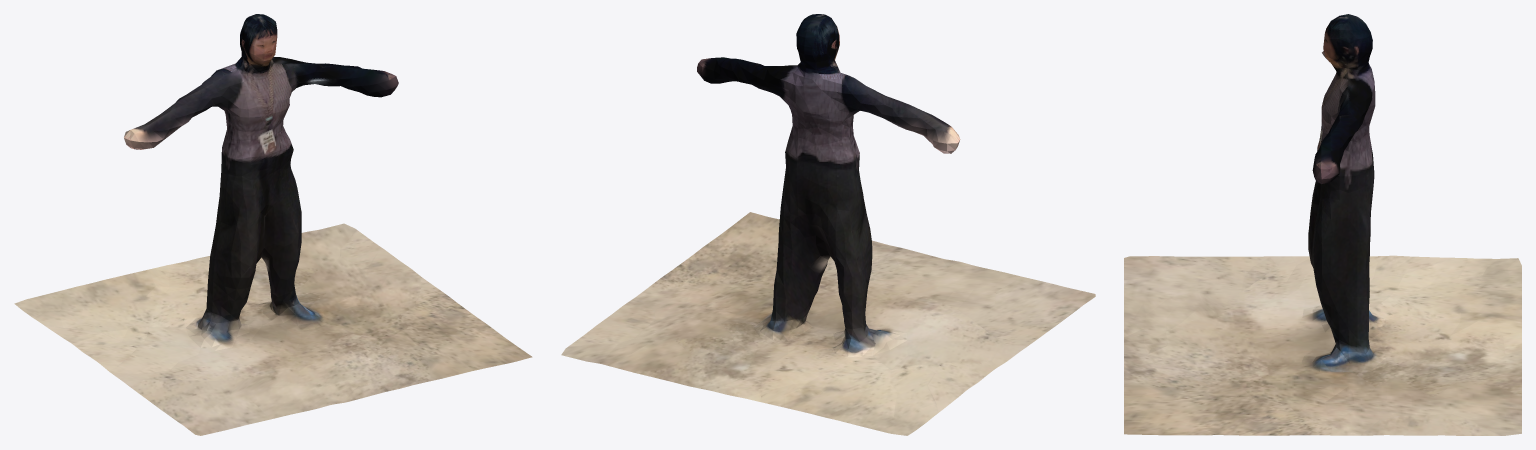
File: UyenLidar.glb
The picture shows the model from 3 angles, left to right: view 1: azimuth 30°, elevation 25°; view 2: azimuth 150°, elevation 25°; view 3: azimuth 270°, elevation 25°; orthographic projection. The views are drawn at different scales.
Size of the model in its own units: 1.89 by 1.66 by 1.81.
Materials: 1 (1 with a texture image).
